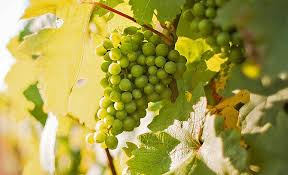Green grapes: (92, 33, 178, 145)
